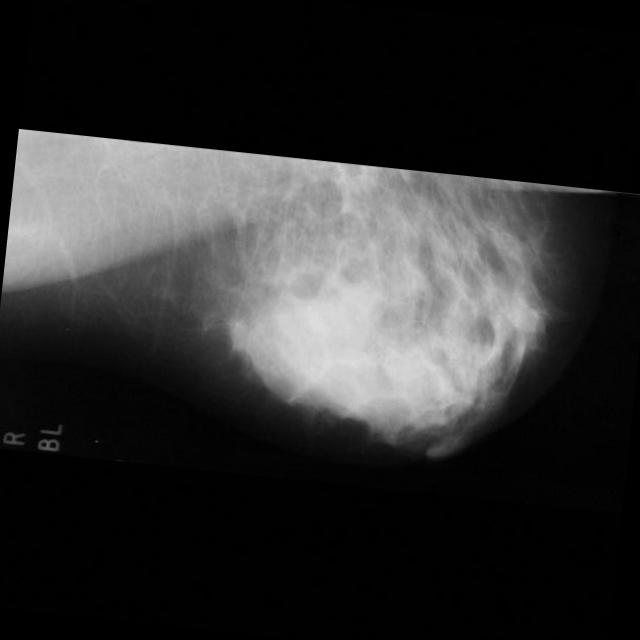CALC: (369, 243, 392, 266)
